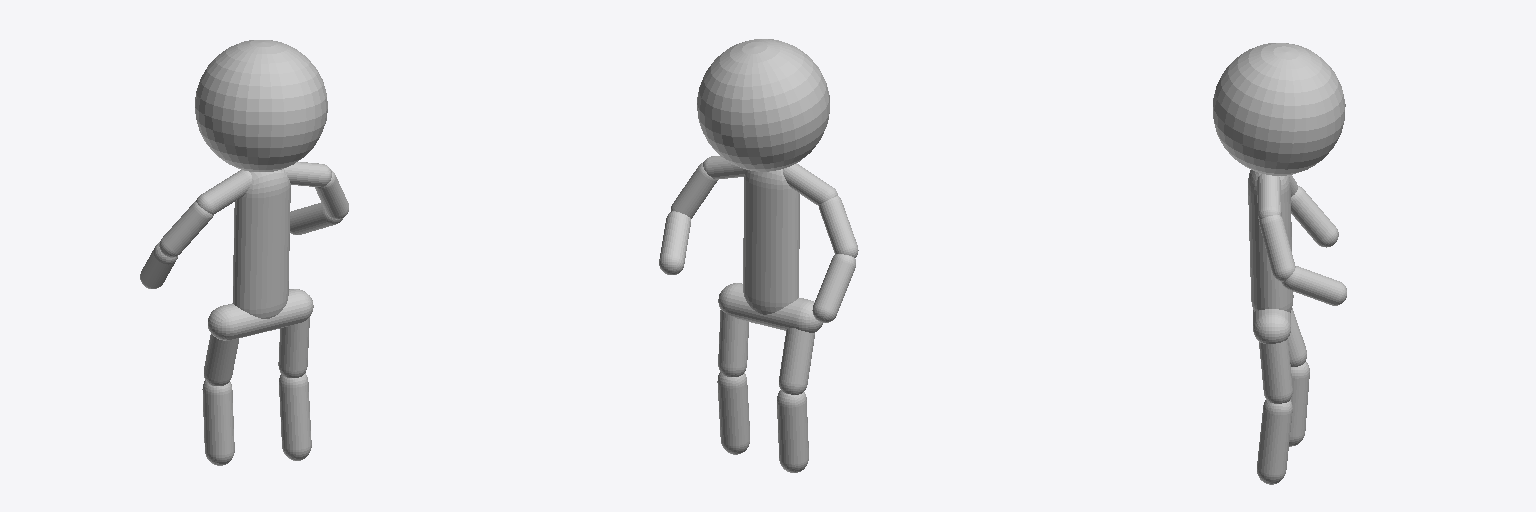
File: Stickman_000029.obj
3 views of the same model, side by side, from view 1: azimuth 30°, elevation 25°; view 2: azimuth 150°, elevation 25°; view 3: azimuth 270°, elevation 25° (orthographic).
Visible parts, largest first — view 1: Head_Sphere.001, Body_Roundcube.002, Hip_Roundcube.005, LowerLegLeft_Roundcube.013, LowerLegRight_Roundcube.011, UpperLegLeft_Roundcube.012, UpperArmRight_Roundcube.015, UpperLegRight_Roundcube.010, ShoulderRight_Roundcube.014, LowerArmLeft_Roundcube.019, ShoulderLeft_Roundcube.017, LowerArmRight_Roundcube.016 (+1 smaller); view 2: Head_Sphere.001, Body_Roundcube.002, Hip_Roundcube.005, LowerLegRight_Roundcube.011, LowerLegLeft_Roundcube.013, UpperLegRight_Roundcube.010, LowerArmRight_Roundcube.016, UpperLegLeft_Roundcube.012, LowerArmLeft_Roundcube.019, UpperArmRight_Roundcube.015, ShoulderRight_Roundcube.014, UpperArmLeft_Roundcube.018 (+1 smaller); view 3: Head_Sphere.001, Body_Roundcube.002, LowerLegLeft_Roundcube.013, UpperLegLeft_Roundcube.012, UpperArmLeft_Roundcube.018, LowerArmRight_Roundcube.016, LowerArmLeft_Roundcube.019, LowerLegRight_Roundcube.011, Hip_Roundcube.005, ShoulderLeft_Roundcube.017, UpperLegRight_Roundcube.010.
Part boxes in pixels (x1,y1,x2,y2): Head_Sphere.001: (195, 40, 327, 171); Body_Roundcube.002: (233, 169, 290, 318); Hip_Roundcube.005: (208, 289, 313, 340); LowerLegLeft_Roundcube.013: (279, 373, 311, 460); LowerLegRight_Roundcube.011: (202, 380, 234, 465); UpperLegLeft_Roundcube.012: (278, 317, 309, 377); UpperArmRight_Roundcube.015: (159, 201, 213, 257); UpperLegRight_Roundcube.010: (204, 334, 238, 385); ShoulderRight_Roundcube.014: (196, 170, 251, 214); LowerArmLeft_Roundcube.019: (290, 202, 342, 234); ShoulderLeft_Roundcube.017: (284, 162, 331, 186); LowerArmRight_Roundcube.016: (140, 242, 177, 288); Head_Sphere.001: (697, 39, 829, 171); Body_Roundcube.002: (743, 169, 799, 314); Hip_Roundcube.005: (718, 283, 822, 332); LowerLegRight_Roundcube.011: (777, 390, 808, 472); LowerLegLeft_Roundcube.013: (717, 372, 749, 454); UpperLegRight_Roundcube.010: (779, 328, 814, 394); LowerArmRight_Roundcube.016: (812, 254, 855, 322); UpperLegLeft_Roundcube.012: (718, 310, 748, 376); LowerArmLeft_Roundcube.019: (659, 211, 690, 274); UpperArmRight_Roundcube.015: (819, 196, 858, 257); ShoulderRight_Roundcube.014: (783, 163, 837, 205); UpperArmLeft_Roundcube.018: (671, 163, 717, 218); Head_Sphere.001: (1213, 43, 1345, 175); Body_Roundcube.002: (1248, 170, 1293, 312); LowerLegLeft_Roundcube.013: (1257, 400, 1292, 484); UpperLegLeft_Roundcube.012: (1259, 339, 1292, 403); UpperArmLeft_Roundcube.018: (1259, 215, 1295, 281); LowerArmRight_Roundcube.016: (1291, 186, 1338, 247); LowerArmLeft_Roundcube.019: (1281, 266, 1346, 305); LowerLegRight_Roundcube.011: (1289, 362, 1309, 446); Hip_Roundcube.005: (1253, 309, 1290, 343); ShoulderLeft_Roundcube.017: (1257, 174, 1281, 220); UpperLegRight_Roundcube.010: (1288, 308, 1306, 366).
Bounding box in the file's own units: 5.15 × 11 × 3.21.